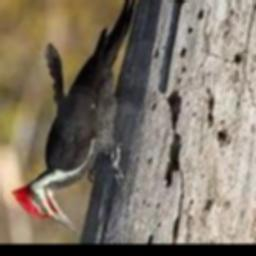Woodpecker: (11, 0, 141, 233)
